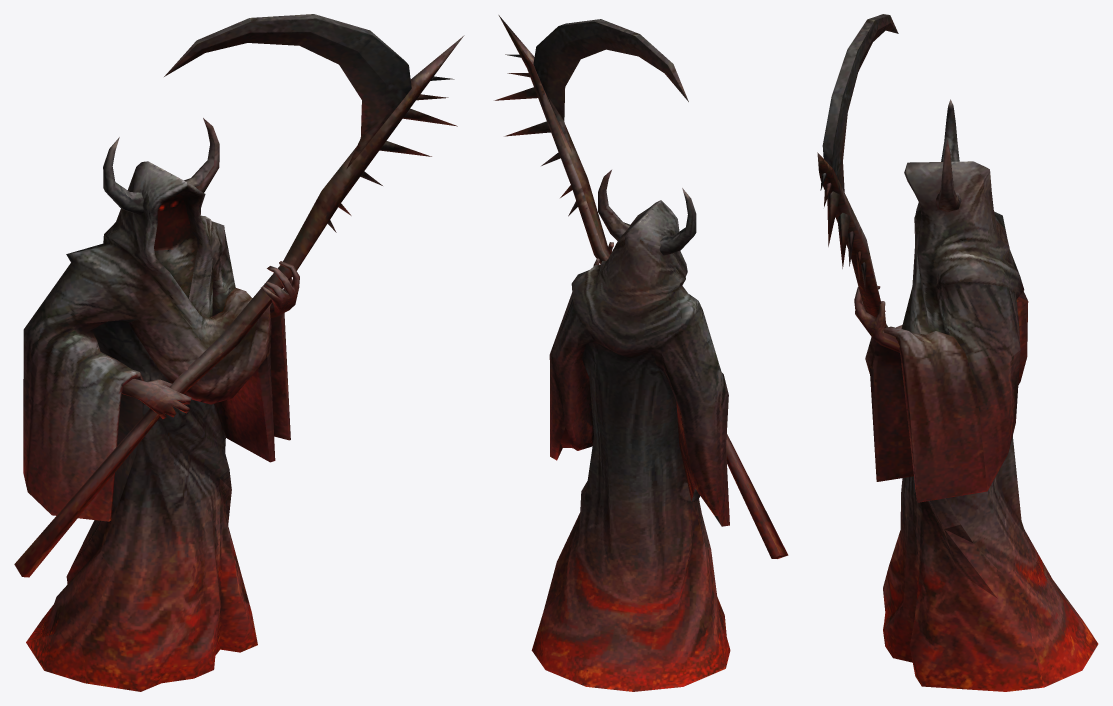
Rendered from otherworld_statue_01.glb.
The picture shows the model from 3 angles, left to right: view 1: azimuth 30°, elevation 25°; view 2: azimuth 150°, elevation 25°; view 3: azimuth 270°, elevation 25°; orthographic projection. The views are drawn at different scales.
Parts seen in each view (by area): view 1: otherworld_statue_01; view 2: otherworld_statue_01; view 3: otherworld_statue_01.
Part boxes in pixels (x1,y1,x2,y2): otherworld_statue_01: (14,14,464,691); otherworld_statue_01: (494,15,788,691); otherworld_statue_01: (817,14,1098,691).
Bounding box in the file's own units: 4.94 × 7.94 × 3.11.
1 material, 1 textured.
